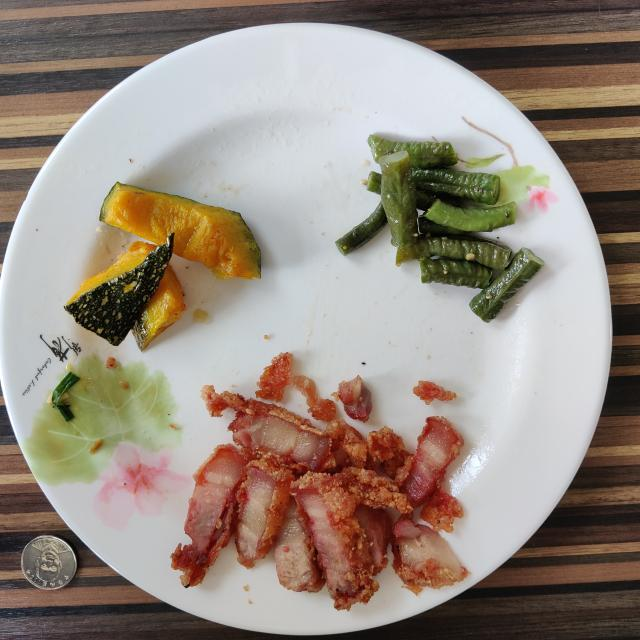coin: (21, 535, 76, 590)
pumpkin: (65, 182, 260, 351)
red grilled pork: (171, 352, 468, 610), (335, 376, 371, 421), (414, 381, 455, 402)
